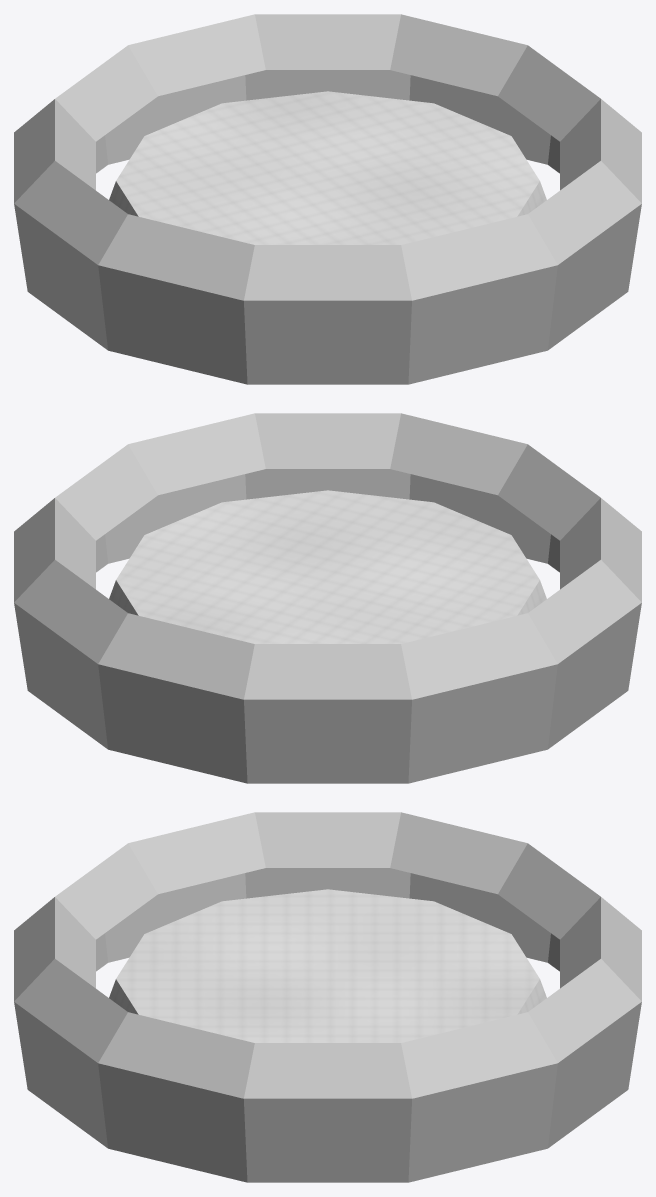
The model's file is animal_bed.obj.
The picture shows the model from 3 angles, top to bottom: view 1: azimuth 30°, elevation 25°; view 2: azimuth 150°, elevation 25°; view 3: azimuth 270°, elevation 25°; orthographic projection.
Visible parts, largest first — view 1: animal_bed; view 2: animal_bed; view 3: animal_bed.
Boxes of the visible parts, bbox=[...] form: animal_bed: bbox=[14, 14, 641, 384]; animal_bed: bbox=[14, 413, 641, 783]; animal_bed: bbox=[14, 812, 641, 1182].
Bounding box in the file's own units: 0.8886 × 0.2 × 0.8886.
